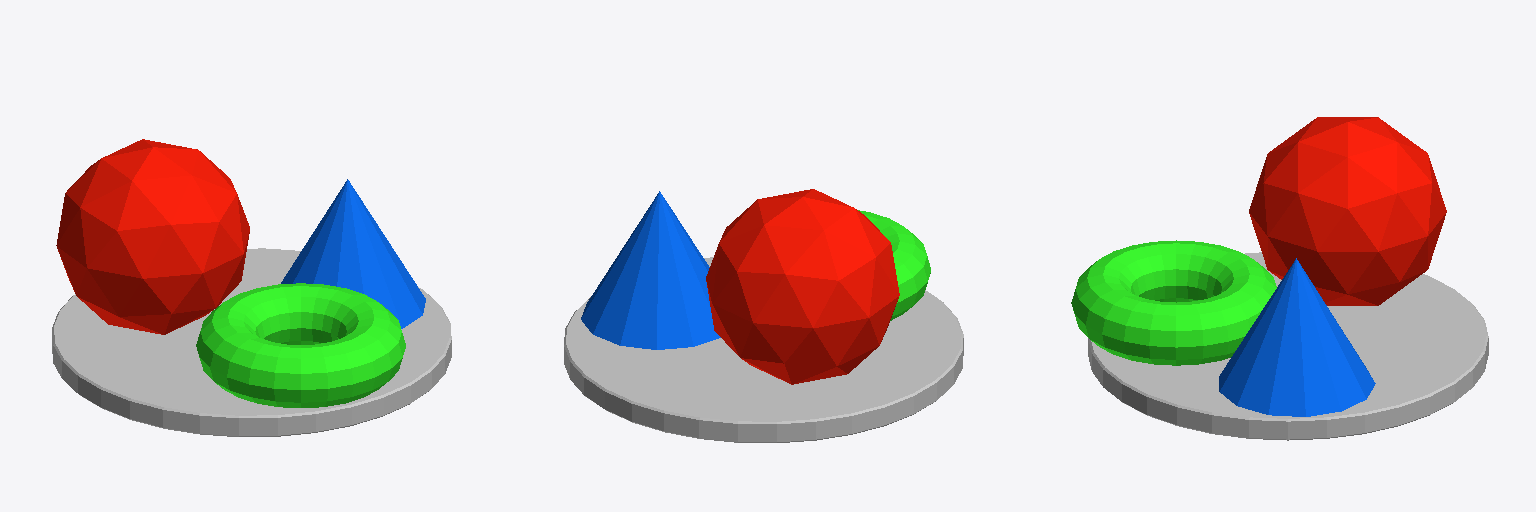
The model's file is luna.obj.
3 renders of one model, left to right at view 1: azimuth 30°, elevation 25°; view 2: azimuth 150°, elevation 25°; view 3: azimuth 270°, elevation 25°, orthographic.
Parts seen in each view (by area): view 1: Circle; view 2: Circle; view 3: Circle.
Boxes of the visible parts, <box> form: Circle: <box>52,139,451,436</box>; Circle: <box>564,189,963,442</box>; Circle: <box>1071,117,1488,440</box>.
Bounding box in the file's own units: 1.62 × 0.896 × 1.68.